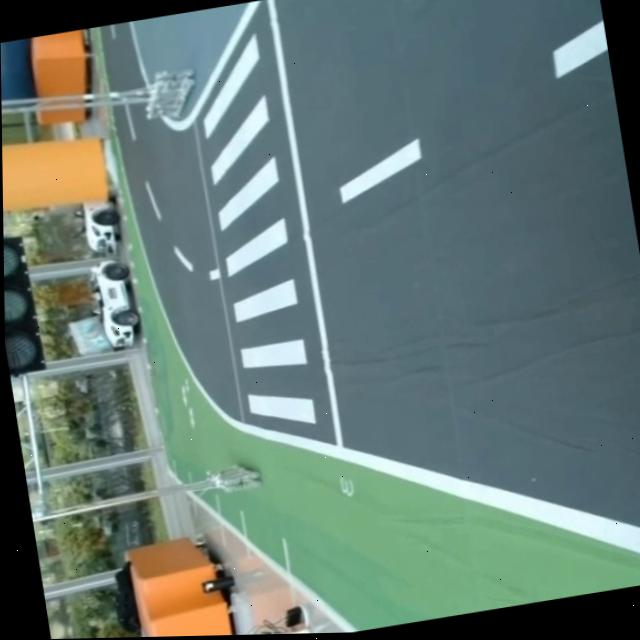traffic-light: (3, 229, 52, 377)
